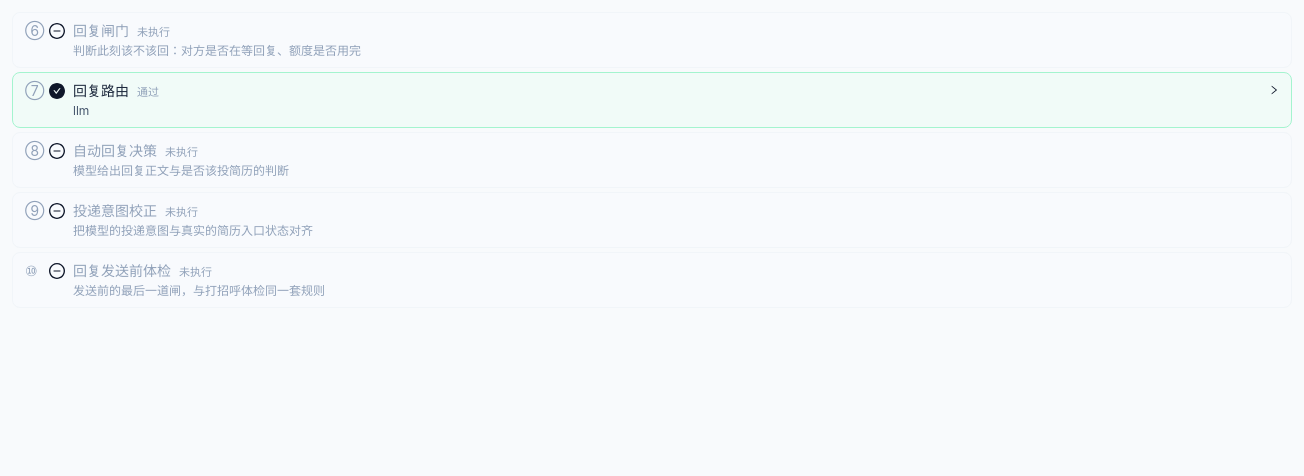
PipelineView › 点开环节能看到结构化产物，未知形状也不会崩
This screenshot has width=1304, height=476.
Click the button "⑦ 回复路由 通过 llm" at (101, 90), box 13,73 -> 1291,127
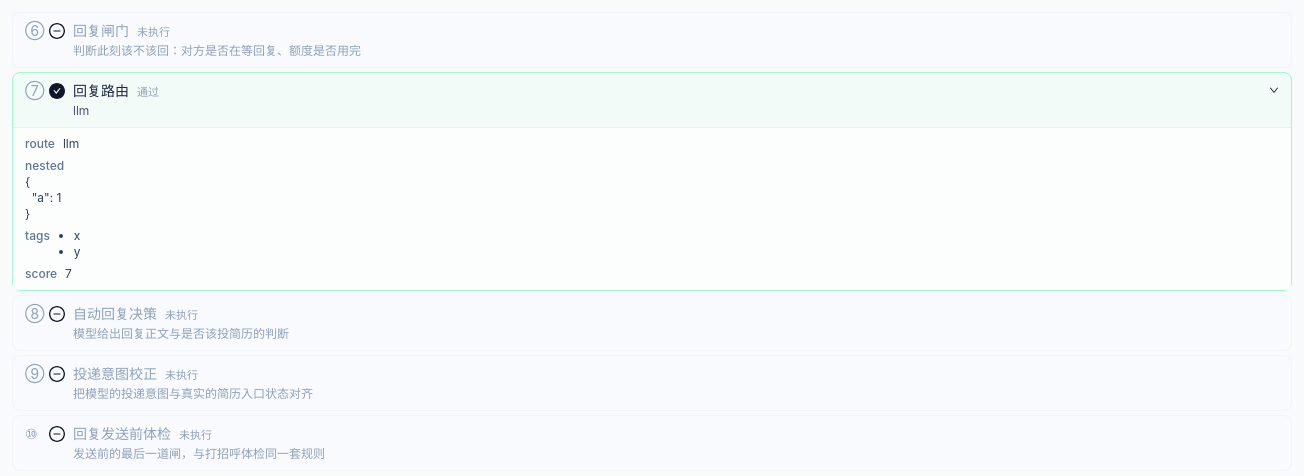
Check: the element with test id "step-detail-route" shows "nested", box 25,158 -> 64,173
Check: the element with test id "step-detail-route" shows "tags", box 25,228 -> 50,243
Check: the element with test id "step-detail-route" shows "score", box 25,266 -> 57,281
